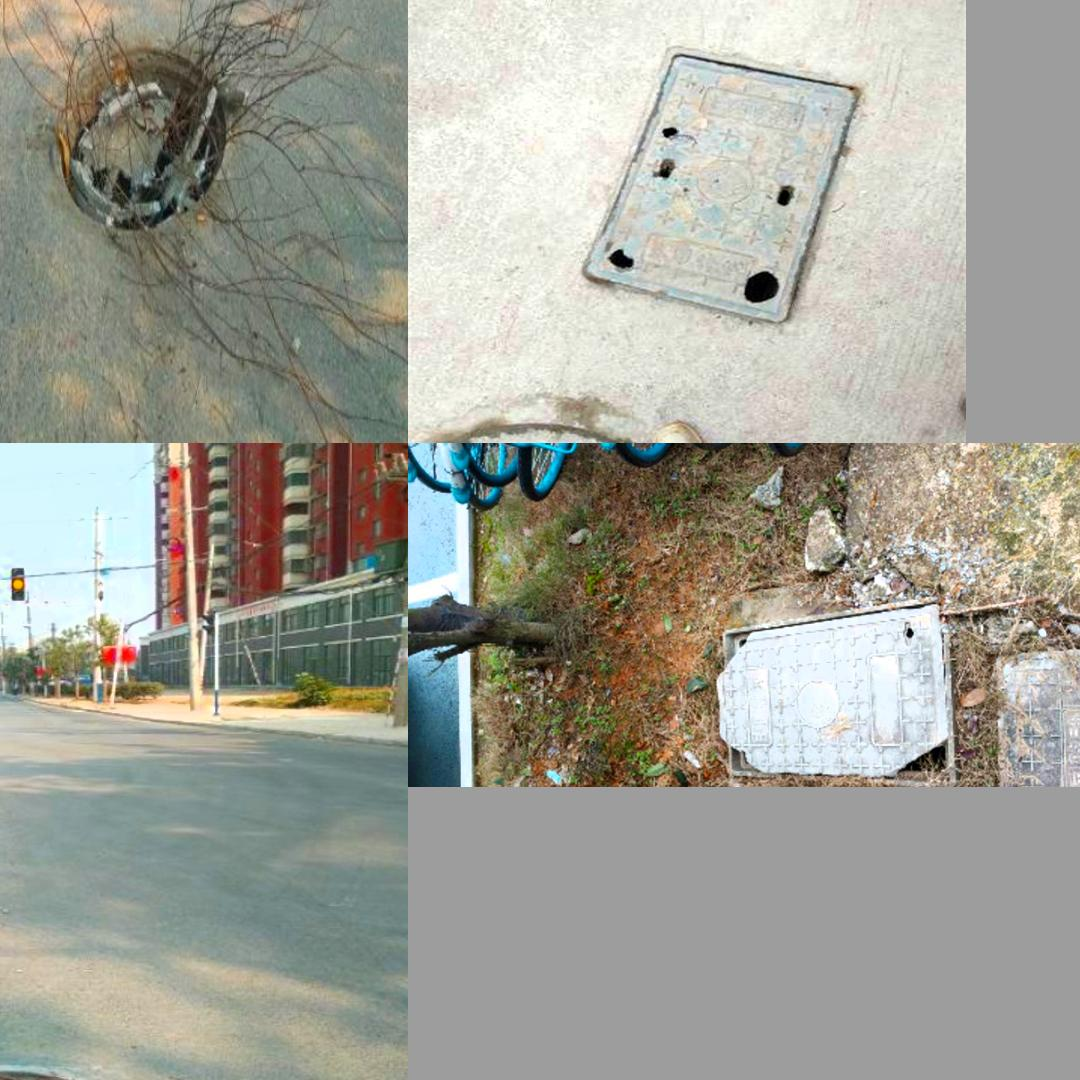broke: (576, 45, 869, 326), (710, 626, 961, 777), (50, 41, 232, 231), (0, 1062, 133, 1080)
